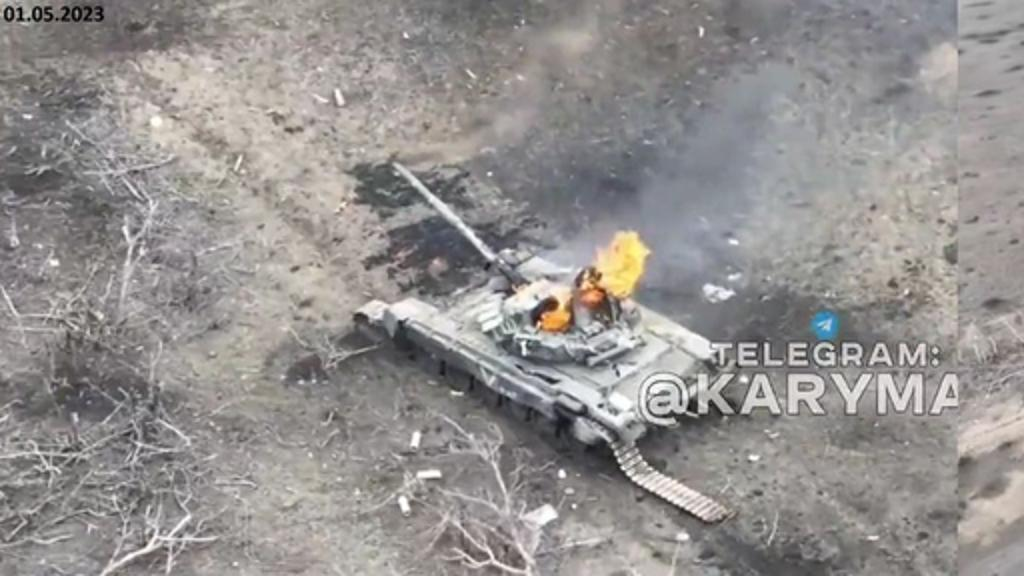TANK: (354, 142, 726, 488)
